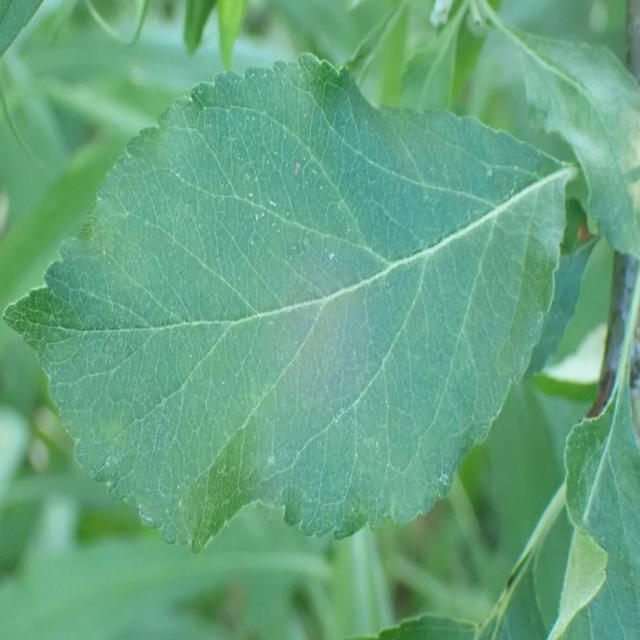Powdery_mildew: (29, 104, 558, 528)
